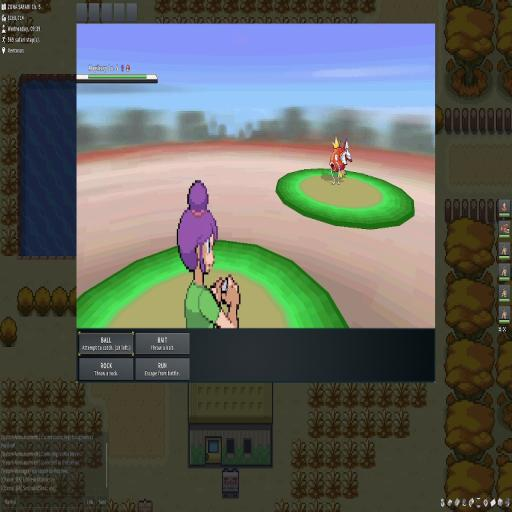FIGHTBAR: (78, 331, 191, 381)
MAGIKARP: (330, 137, 353, 185)
